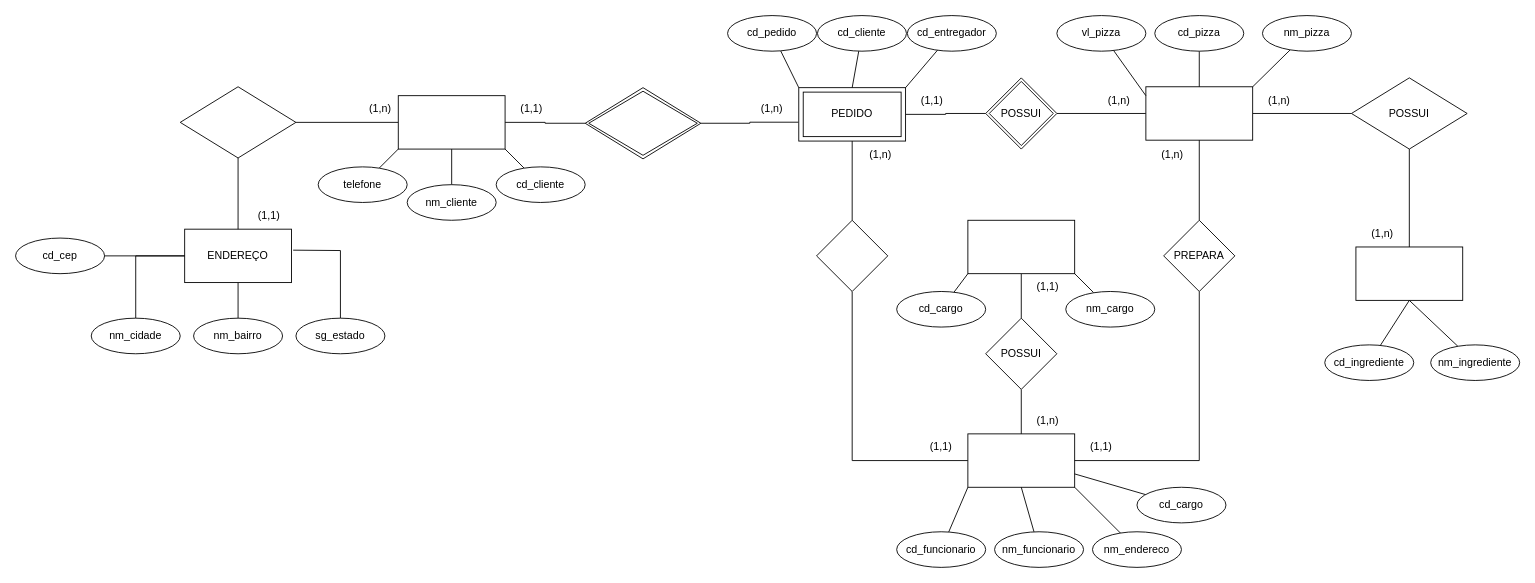
Image size: 1535x583. Some labels were removed from this diagram. Here are the shapes that lost their labels. From the top down, the box of each, then its label:
(179, 86, 296, 158): MORA
(397, 95, 505, 149): CLIENTE
(584, 87, 701, 159): FAZ
(1145, 86, 1253, 140): PIZZA
(816, 219, 888, 291): ENTREGA
(967, 219, 1075, 274): CARGO
(1355, 246, 1463, 300): INGREDIENTE
(967, 433, 1075, 487): FUNCIONARIO
